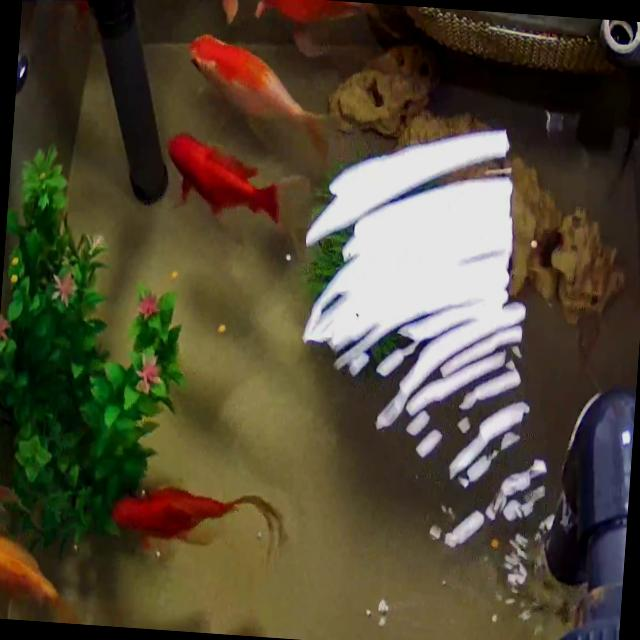fish: (181, 34, 337, 164), (108, 480, 288, 562), (162, 130, 294, 228), (0, 520, 87, 623), (248, 0, 365, 37), (177, 0, 246, 26)
